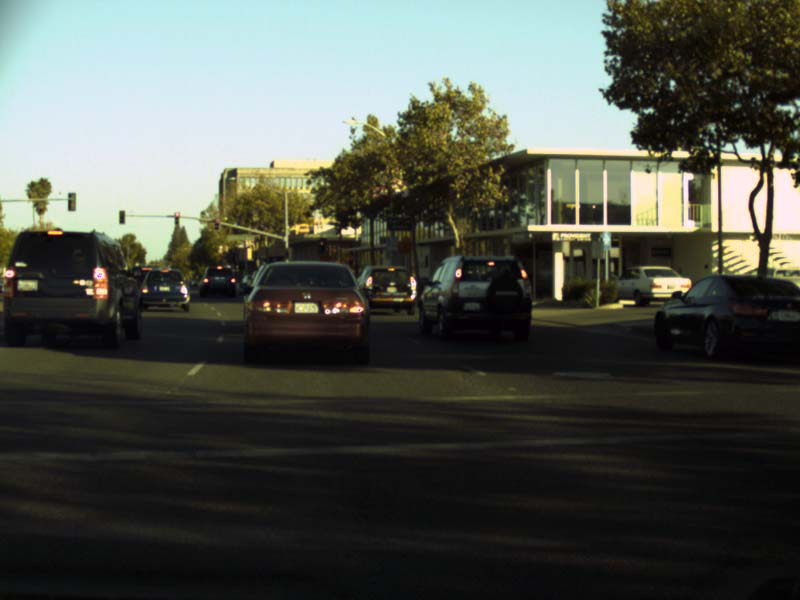Red: (174, 211, 180, 224), (318, 240, 324, 252), (119, 210, 124, 223), (214, 217, 219, 229)
